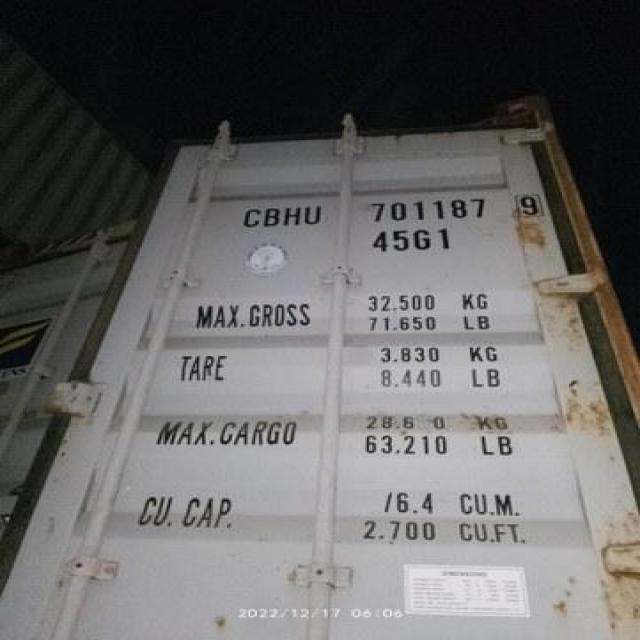ISO: (374, 226, 452, 254)
container_number: (238, 192, 537, 230)
